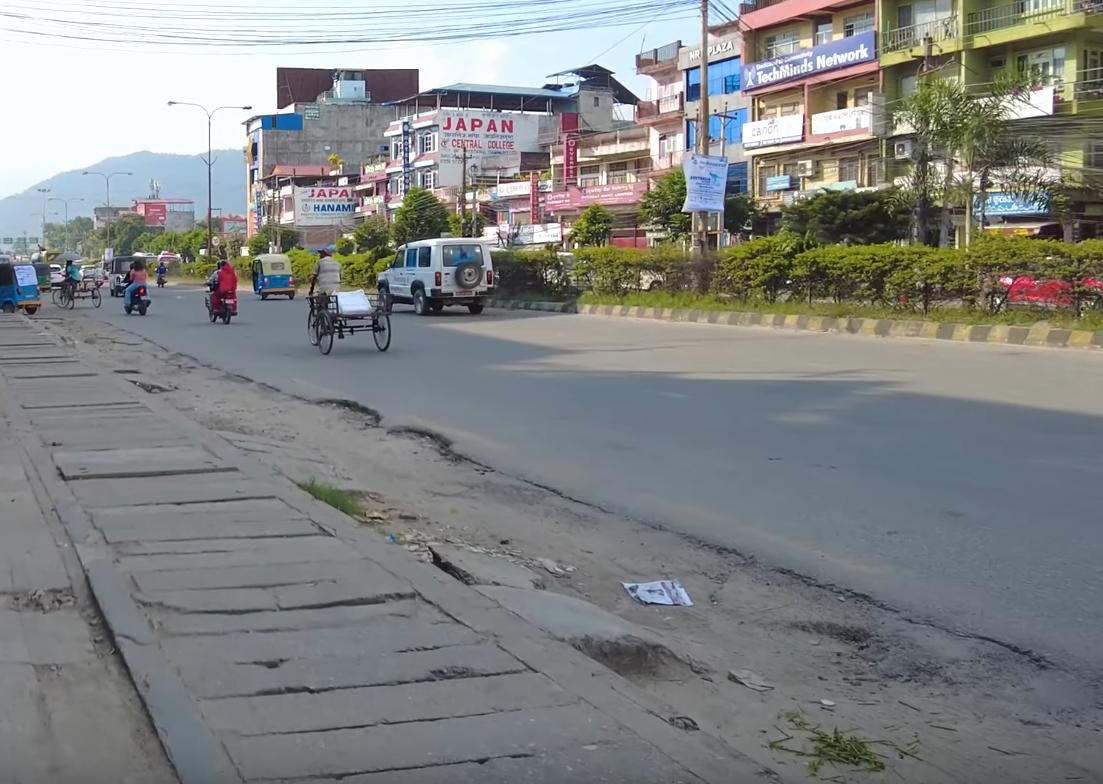ambulance: (370, 236, 501, 322)
auto_rickshaw: (248, 249, 300, 306), (0, 259, 43, 321)
